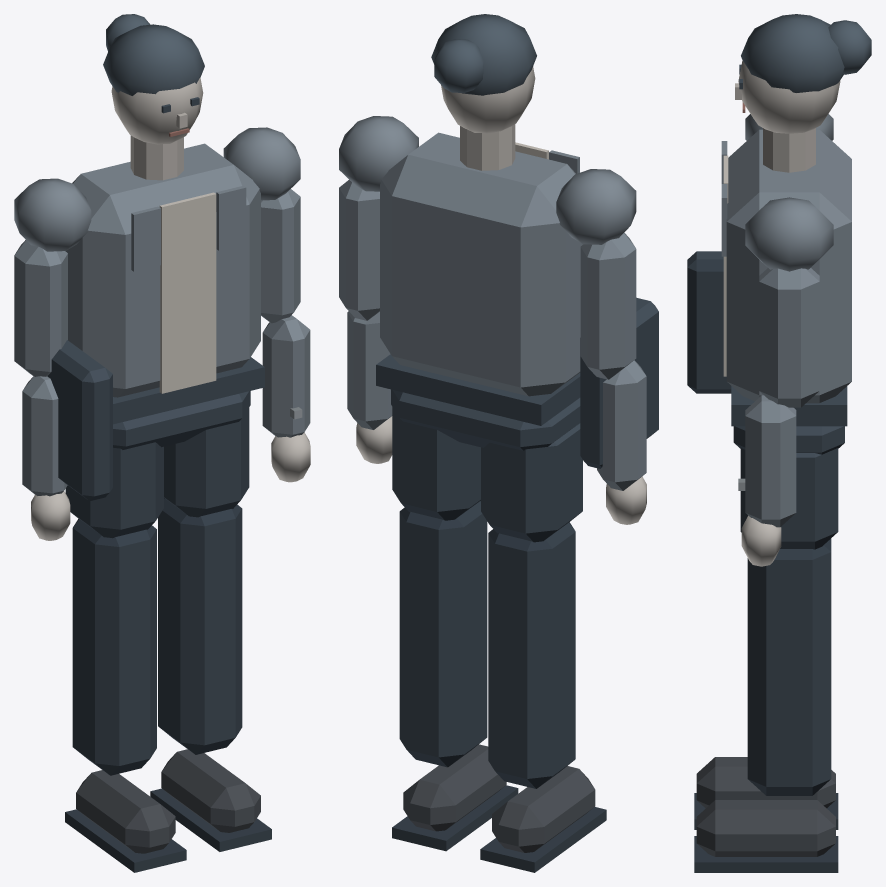
Rendered from personaje_nadia.glb.
3 views of the same model, side by side, from view 1: azimuth 30°, elevation 25°; view 2: azimuth 150°, elevation 25°; view 3: azimuth 270°, elevation 25° (orthographic). The views are drawn at different scales.
Bounding box in the file's own units: 0.72 × 1.95 × 0.3971.
